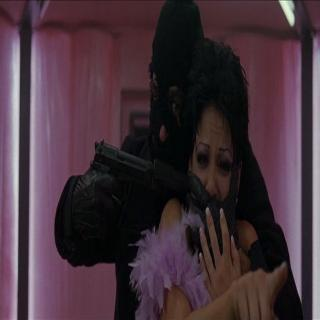gun: (85, 134, 150, 222)
